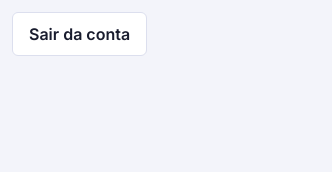
it: sair da conta › avisa quando não foi possível sair e libera o botão de novo
The image size is (332, 172).
Click the button "Sair da conta".
click(80, 34)  # box [12,12,147,56]
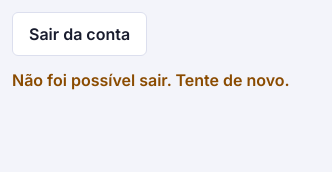
Now the message shows "Não foi possível sair", box [12,70,290,90]
